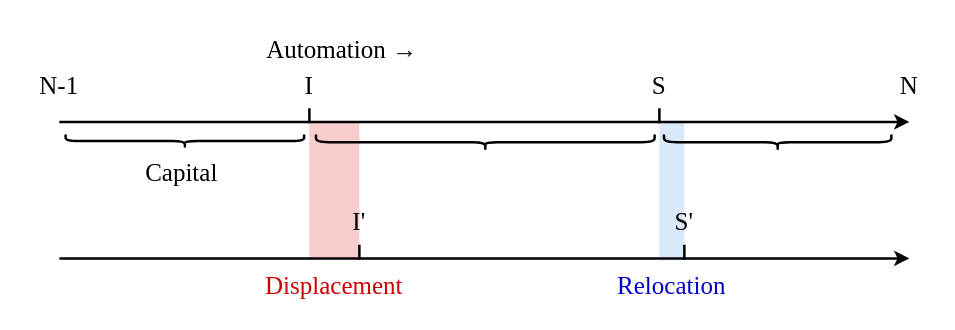
The diagram is 955 pixels wide and 330 high, and some of its shapes have lost their labels. The centre of each missing label's shape, as x and y in pixels:
High-skill labor: (777,141)
Low-skill labor: (484,141)
